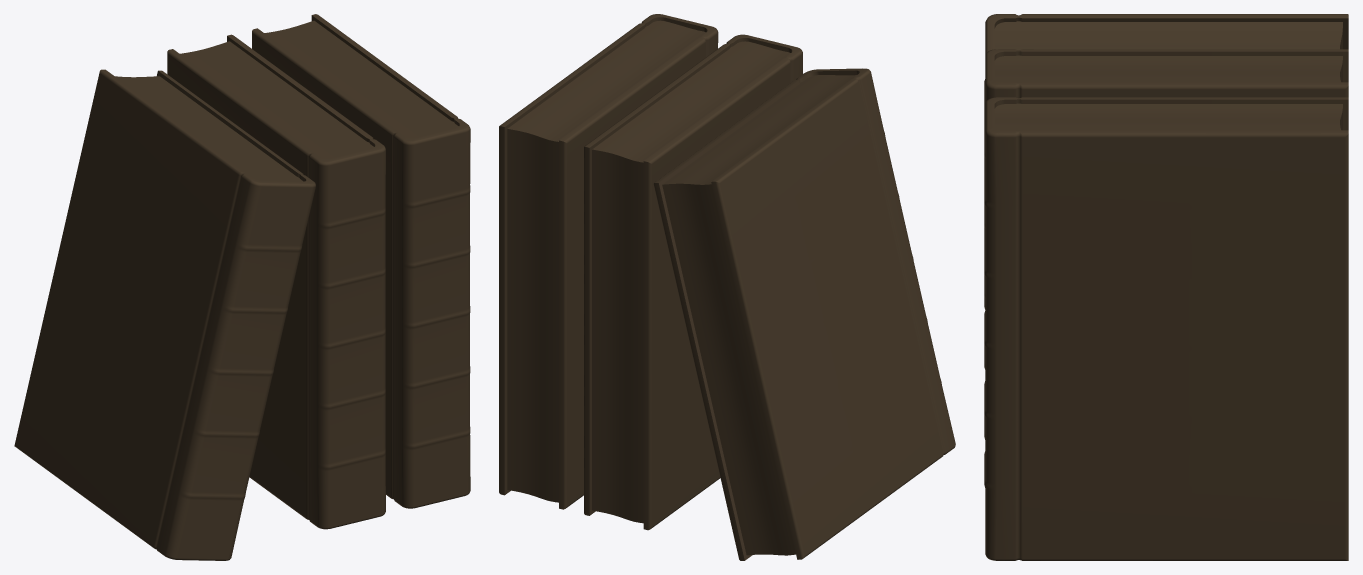
3 renders of one model, left to right at view 1: azimuth 30°, elevation 25°; view 2: azimuth 150°, elevation 25°; view 3: azimuth 270°, elevation 25°, orthographic. The views are drawn at different scales.
Visible parts, largest first — view 1: SM_Books_0; view 2: SM_Books_0; view 3: SM_Books_0.
Part boxes in pixels (x1=…): SM_Books_0: x1=14, y1=14, x2=470, y2=560; SM_Books_0: x1=499, y1=14, x2=955, y2=560; SM_Books_0: x1=984, y1=14, x2=1348, y2=560.
Size of the model in its own units: 0.2256 by 0.2657 by 0.2006.
Materials: 1 (1 with a texture image).
